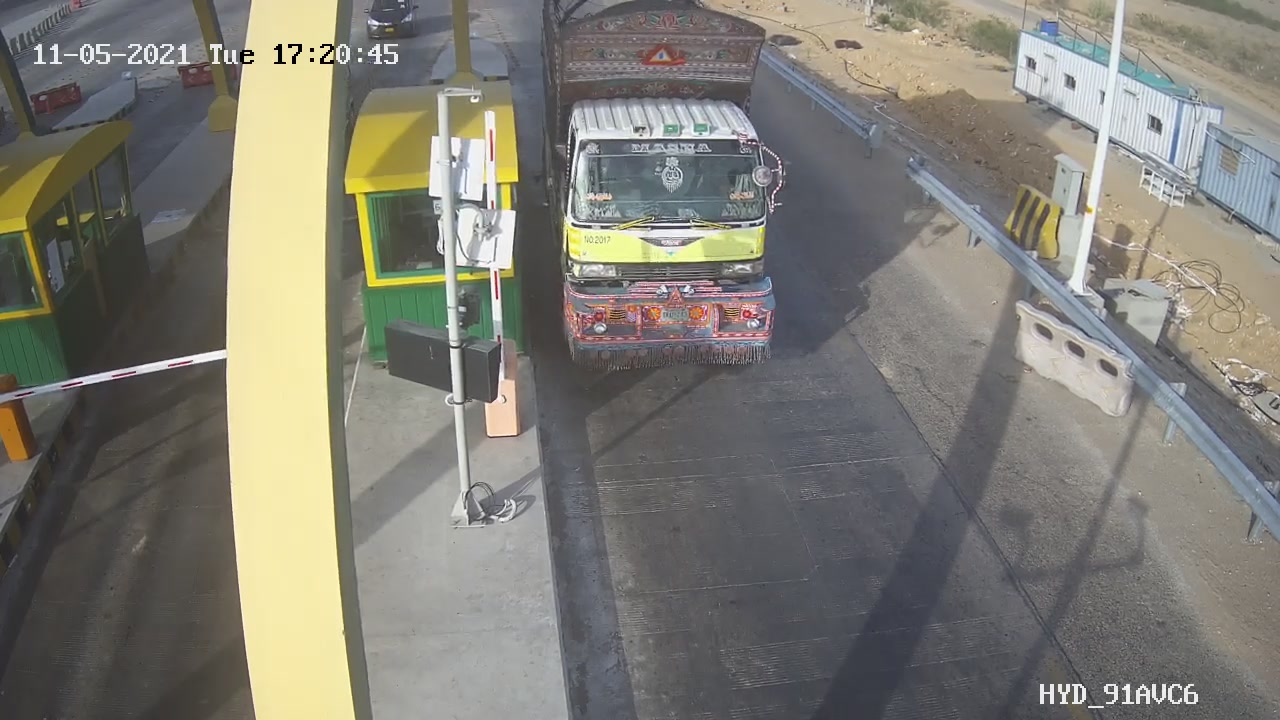F6: (525, 1, 816, 392)
